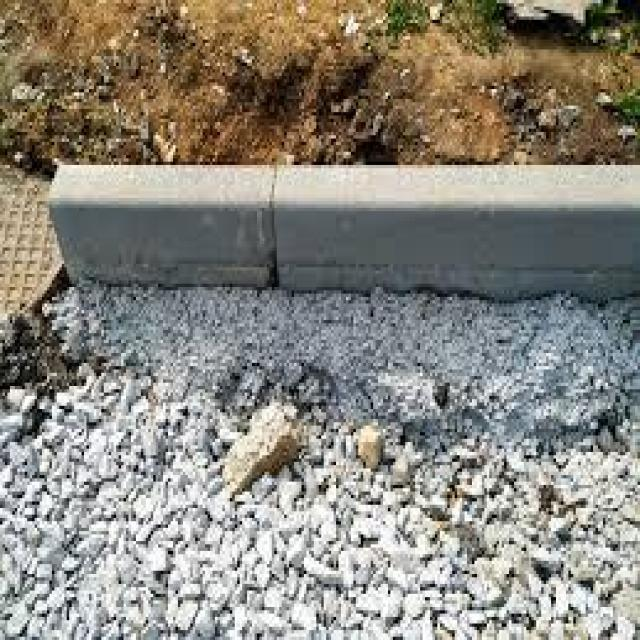bump: (8, 137, 640, 331)
